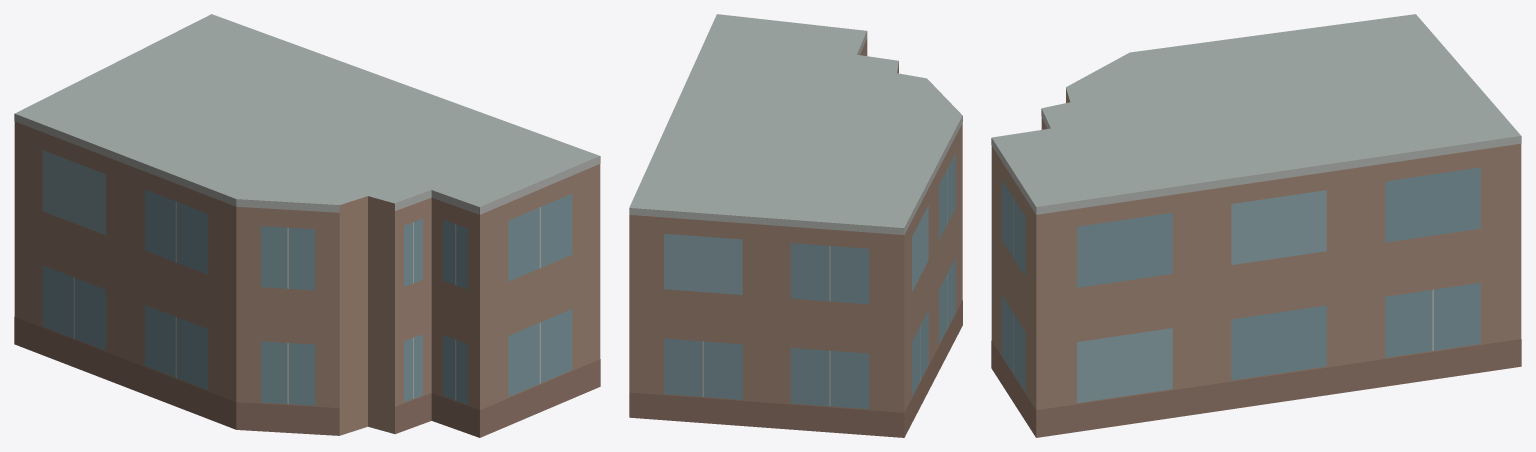
Rendered from survey-upis-33038696.glb.
3 renders of one model, left to right at view 1: azimuth 30°, elevation 25°; view 2: azimuth 150°, elevation 25°; view 3: azimuth 270°, elevation 25°, orthographic. The views are drawn at different scales.
Parts seen in each view (by area): view 1: survey-upis-33038696.tmp; view 2: survey-upis-33038696.tmp; view 3: survey-upis-33038696.tmp.
Boxes of the visible parts, box(x1,y1,x2,y2) form: survey-upis-33038696.tmp: box(14, 14, 600, 437); survey-upis-33038696.tmp: box(629, 14, 962, 437); survey-upis-33038696.tmp: box(991, 14, 1521, 437).
Size of the model in its own units: 13.21 by 7.35 by 15.32.
